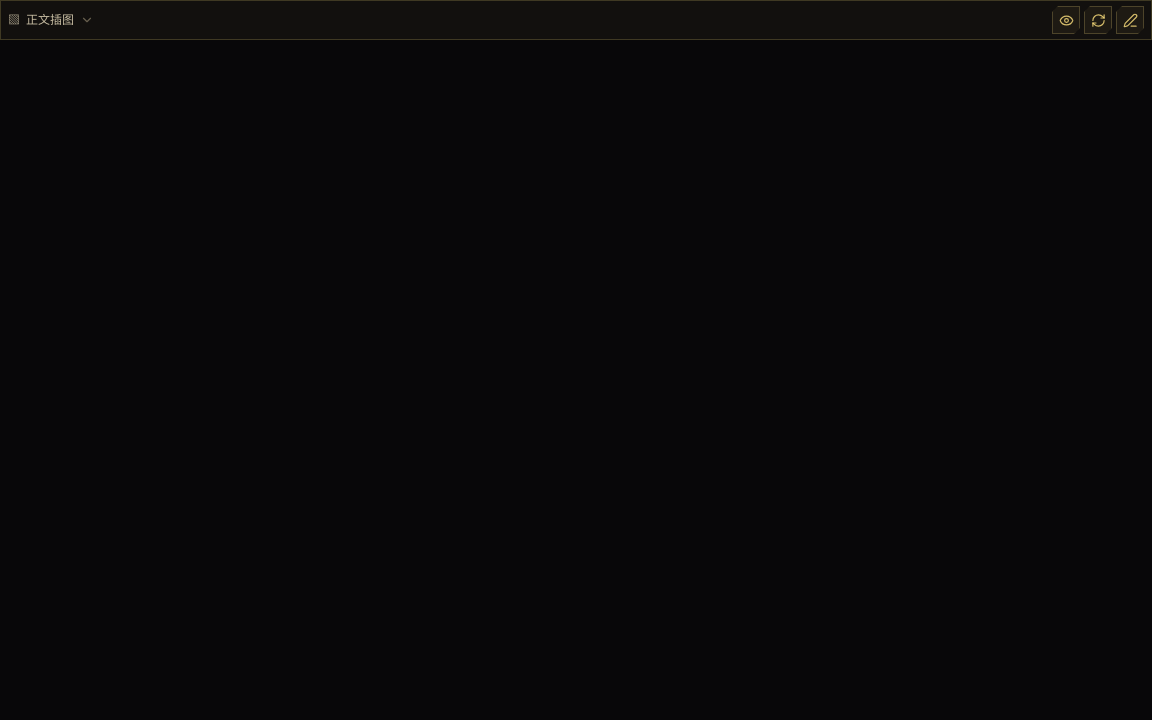
Test: 插图卡片：图标操作 + 悬停说明 › 点「查看大图」打开灯箱（Esc 可关）
The image size is (1152, 720).
Click the button named "查看大图" at (1066, 20), box x1=1052 y1=6 x2=1080 y2=34
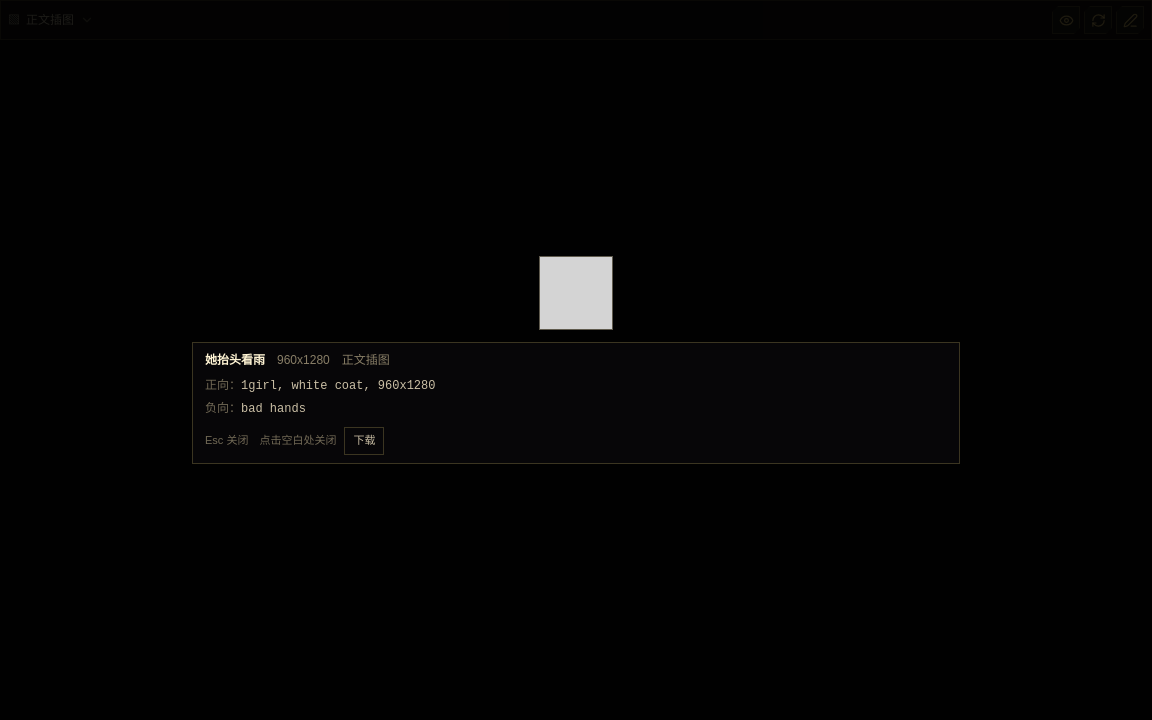
Expected: the dialog named "查看图片" is shown
Expected: the text "960x1280" is shown, x1=277 y1=351 x2=330 y2=370
Press Escape
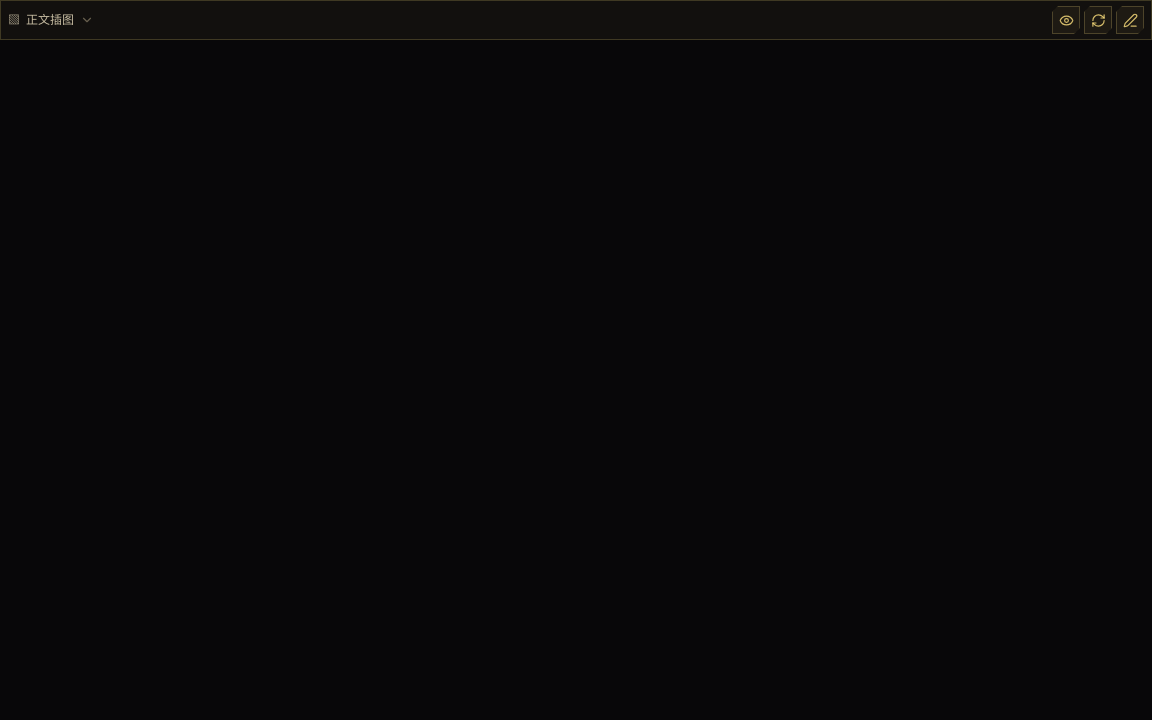
Expected: the dialog is gone
